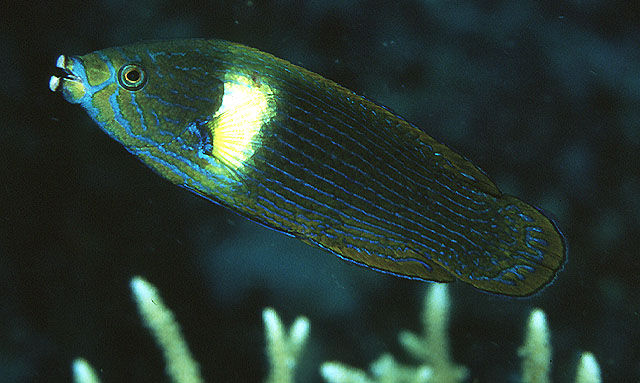fish: (50, 37, 569, 298)
